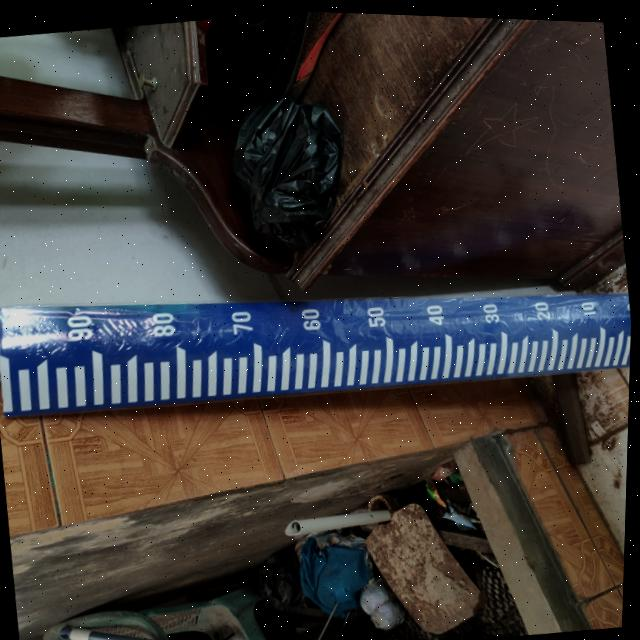water-meter: (0, 222, 633, 457)
